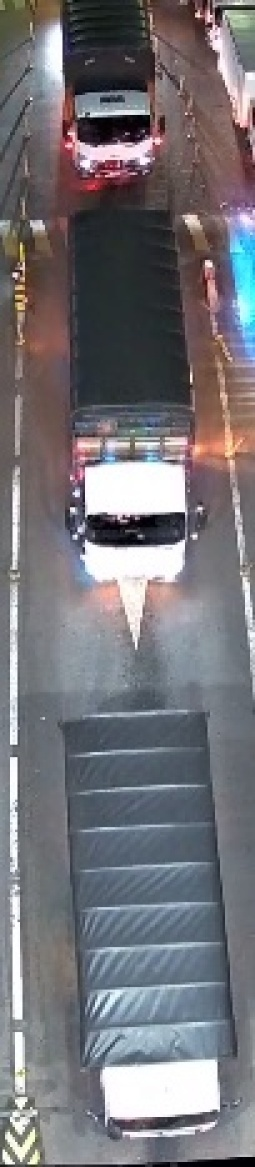truck: (56, 715, 245, 1147), (58, 205, 209, 602), (58, 1, 167, 189)
